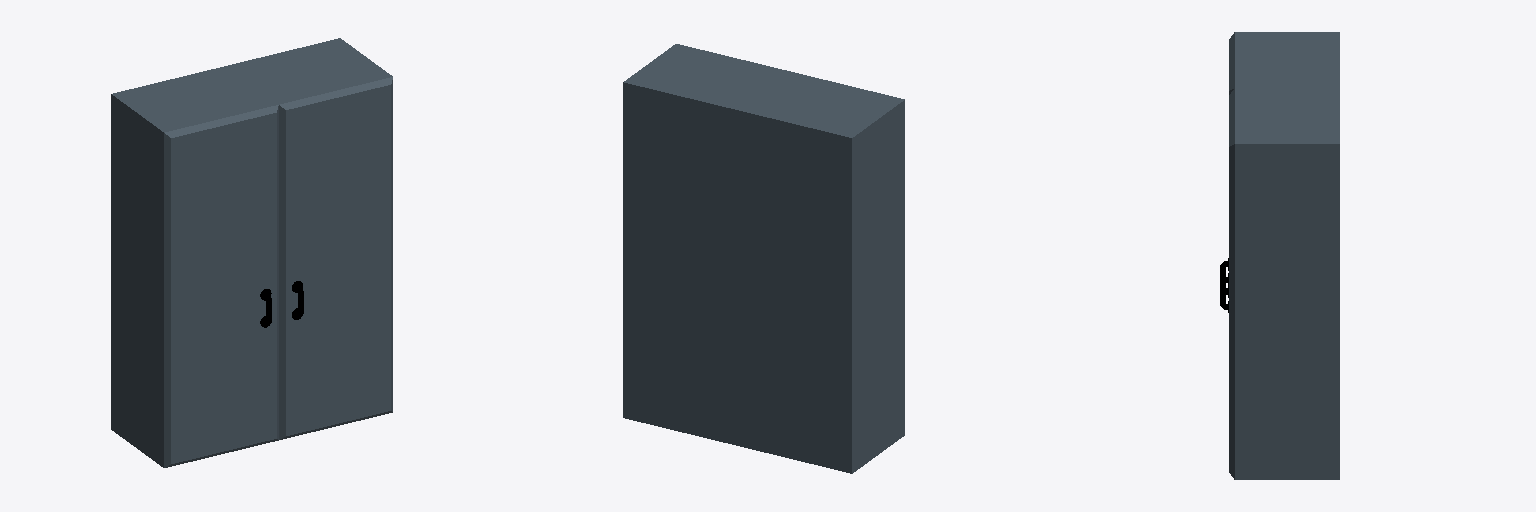
3 renders of one model, left to right at view 1: azimuth 30°, elevation 25°; view 2: azimuth 150°, elevation 25°; view 3: azimuth 270°, elevation 25°, orthographic.
Visible parts, largest first — view 1: pCube9; view 2: pCube9; view 3: pCube9.
Boxes of the visible parts, <box> form: pCube9: <box>111,38,392,467</box>; pCube9: <box>623,44,904,473</box>; pCube9: <box>1229,32,1339,479</box>.
Bounding box in the file's own units: 5 × 7 × 2.28.
Materials: 3 (1 with a texture image).